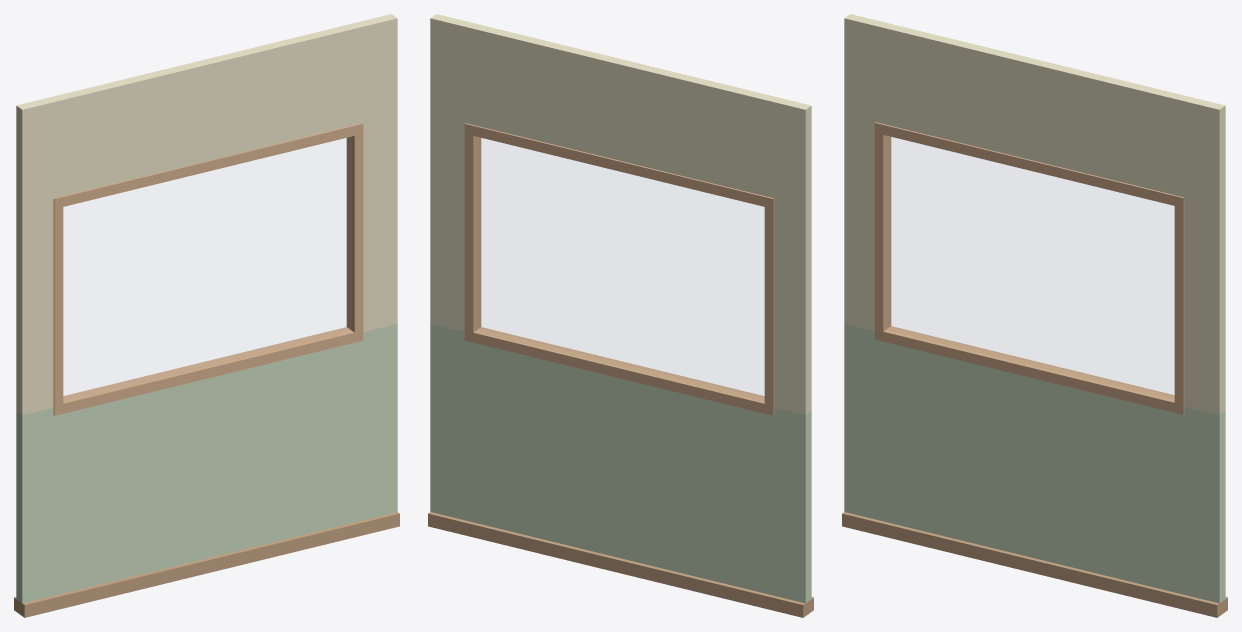
Rendered from wall with a window_2.fbx.
3 renders of one model, left to right at view 1: azimuth 30°, elevation 25°; view 2: azimuth 150°, elevation 25°; view 3: azimuth 330°, elevation 25°, orthographic.
Parts seen in each view (by area): view 1: Cube_14; view 2: Cube_14; view 3: Cube_14.
Boxes of the visible parts, x1,y1,x2,y2 form: Cube_14: (14, 14, 399, 617); Cube_14: (428, 14, 813, 617); Cube_14: (842, 14, 1227, 617).
Bounding box in the file's own units: 69.25 × 89.3 × 3.39.
